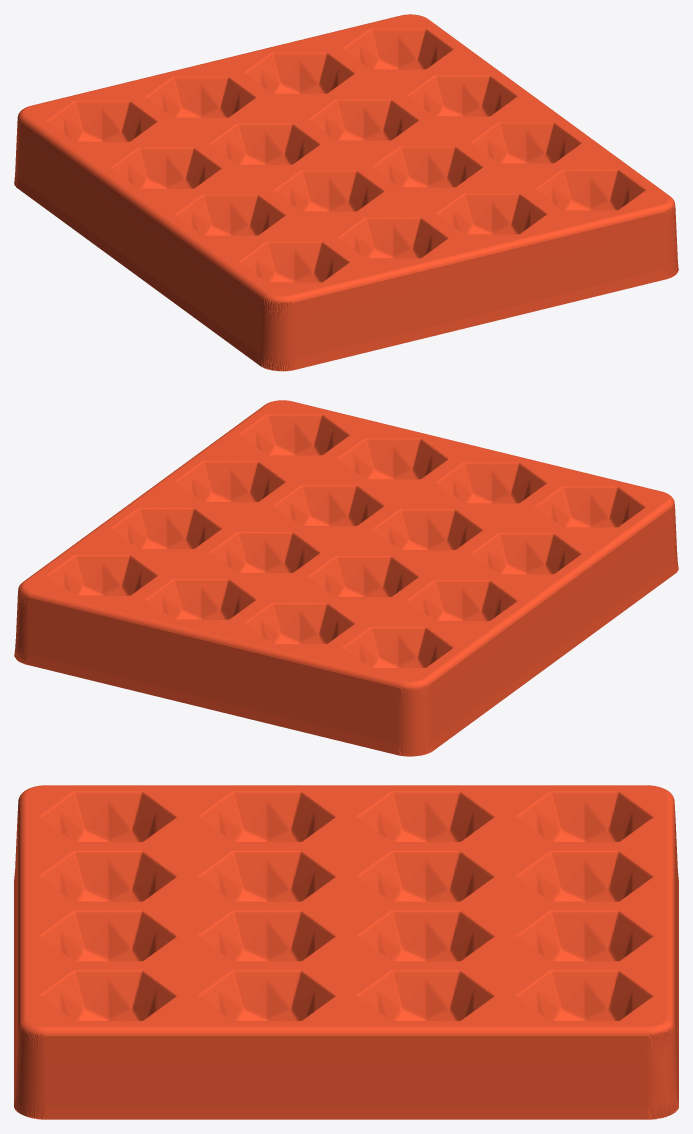
The model's file is mold.glb.
The picture shows the model from 3 angles, top to bottom: view 1: azimuth 30°, elevation 25°; view 2: azimuth 150°, elevation 25°; view 3: azimuth 270°, elevation 25°; orthographic projection. The views are drawn at different scales.
Parts seen in each view (by area): view 1: geometry_0; view 2: geometry_0; view 3: geometry_0.
Part boxes in pixels (x1,y1,x2,y2): geometry_0: (14, 14, 678, 371); geometry_0: (14, 400, 678, 756); geometry_0: (14, 785, 678, 1119).
Bounding box in the file's own units: 0.1659 × 0.0271 × 0.1856.
